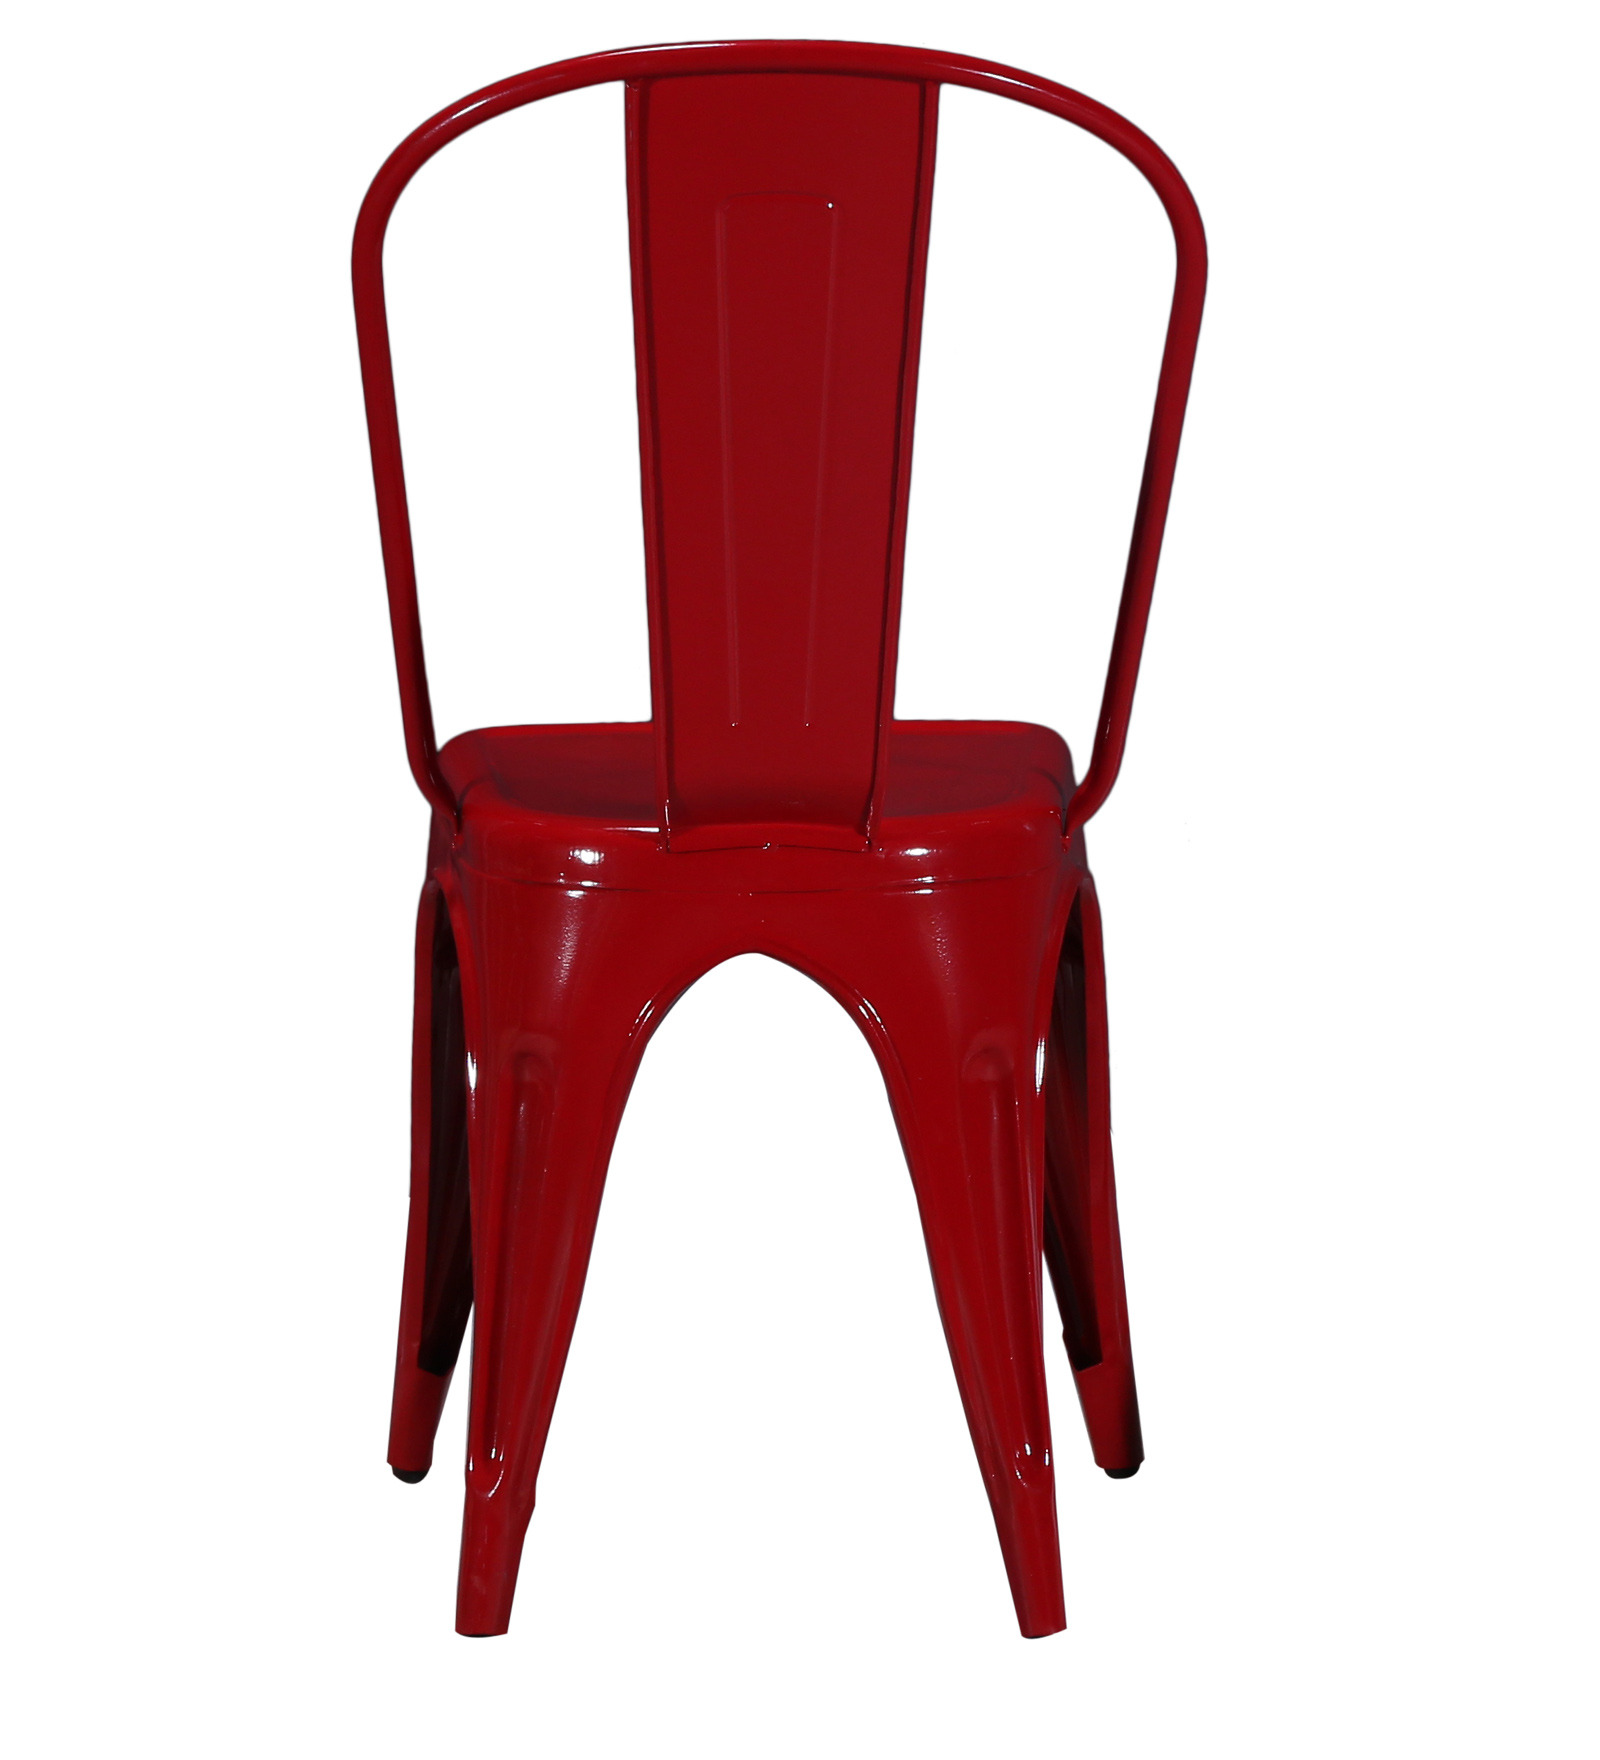Ekati Metal Chair in Red Color by Bohemiana: (297, 34, 1179, 1706)
